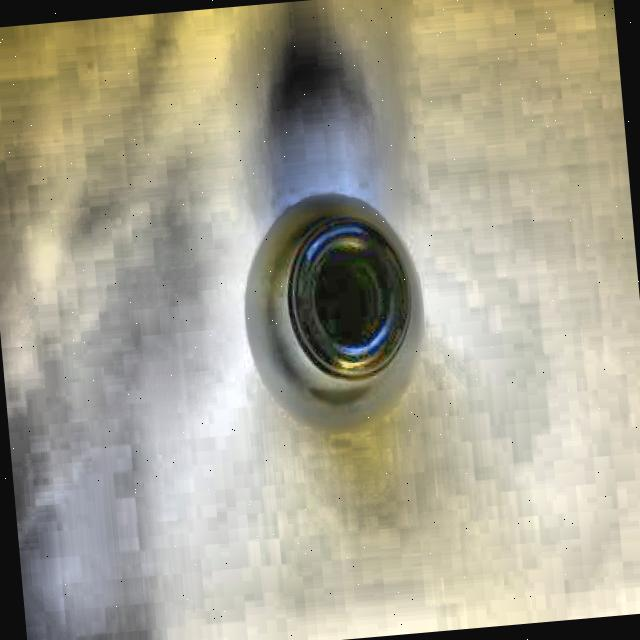glass: (228, 184, 438, 438)
